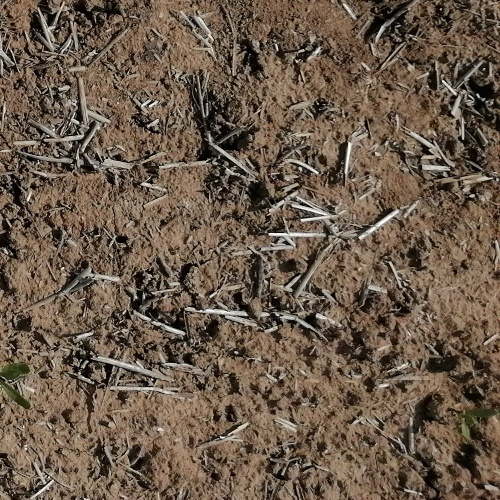beet: (0, 362, 32, 408)
